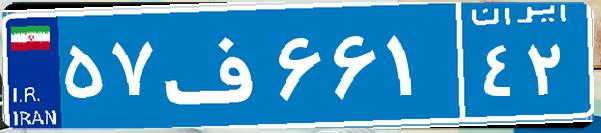1: (385, 28, 445, 110)
2: (525, 38, 570, 115)
4: (475, 38, 525, 113)
5: (57, 26, 110, 107)
6: (273, 28, 330, 110), (330, 28, 385, 110)
7: (110, 28, 158, 105)
ف: (158, 15, 273, 115)
